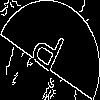P: (25, 25, 67, 82)
